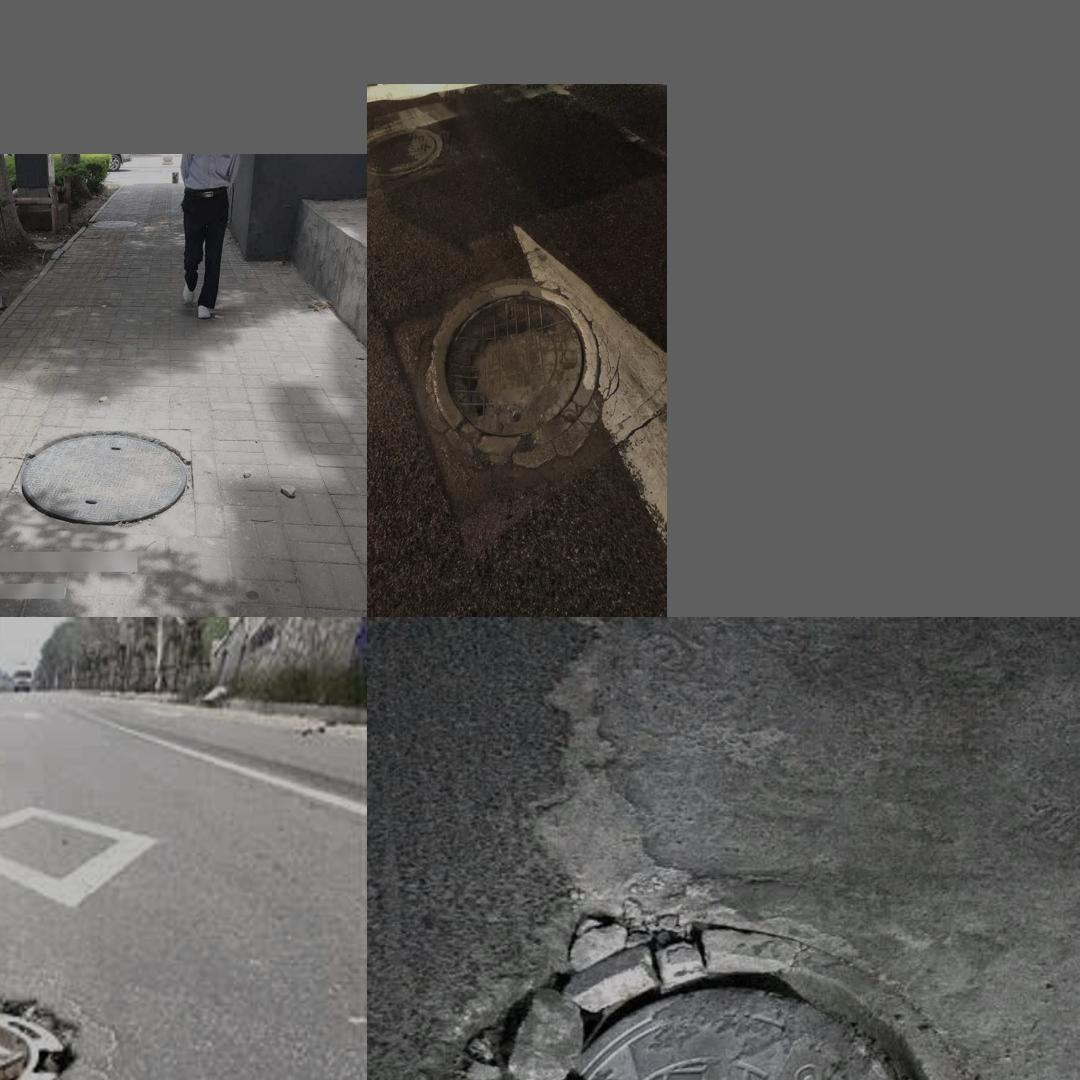circle: (390, 923, 1018, 1080), (395, 259, 645, 517), (0, 946, 181, 1080), (16, 430, 191, 527)
